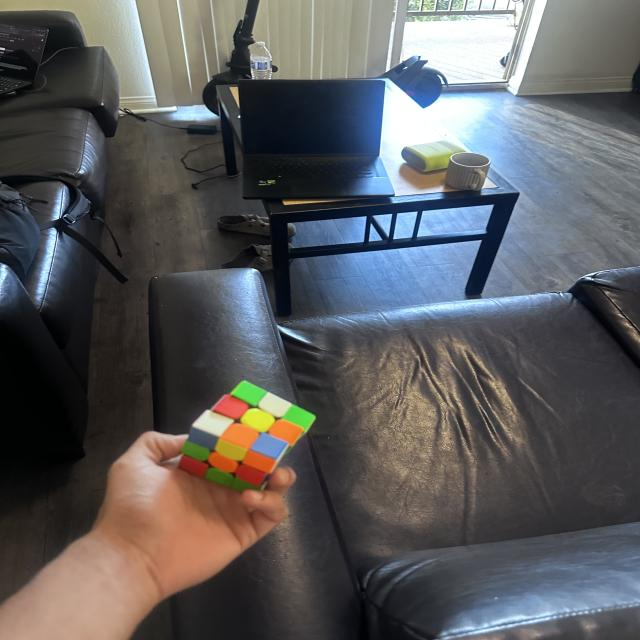sticker: (248, 432, 290, 462), (219, 422, 260, 452), (192, 410, 234, 438), (279, 404, 316, 434), (212, 393, 251, 420), (268, 418, 305, 446), (230, 380, 268, 407), (240, 449, 278, 475), (257, 392, 293, 418), (185, 426, 220, 452), (233, 463, 269, 488), (240, 408, 276, 433), (214, 438, 250, 462), (177, 454, 210, 478), (208, 452, 240, 474), (204, 467, 237, 488), (181, 441, 211, 462), (231, 475, 261, 493)
